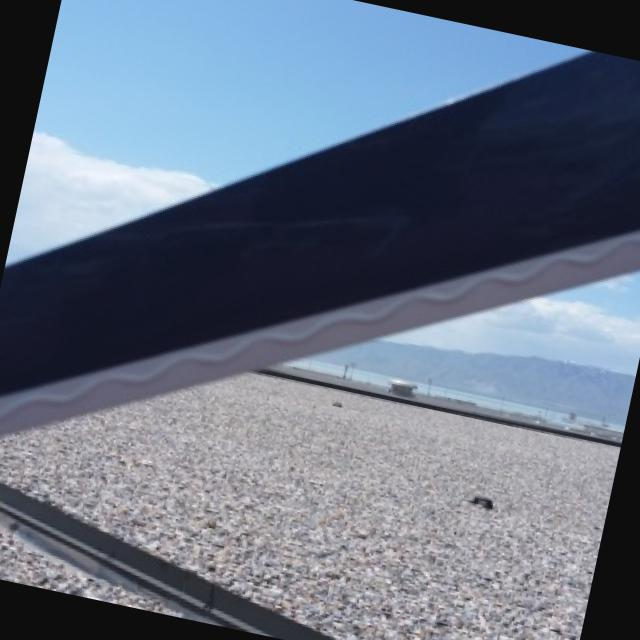healthy: (0, 52, 640, 431)
